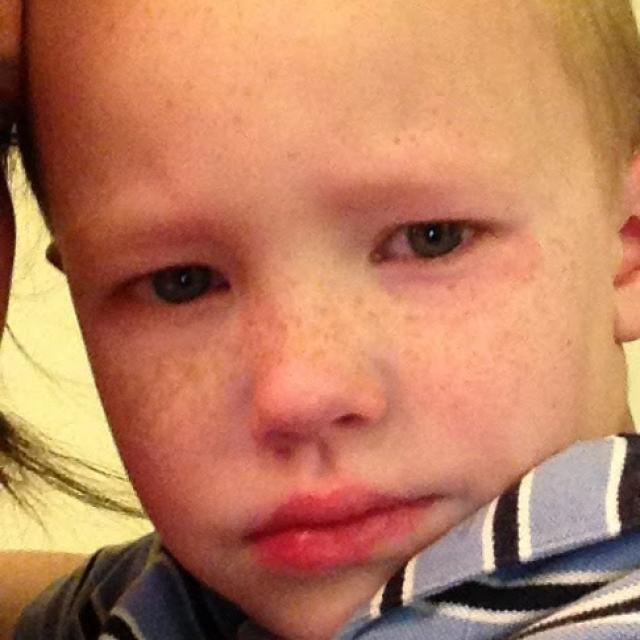Depress: (28, 0, 612, 634)
